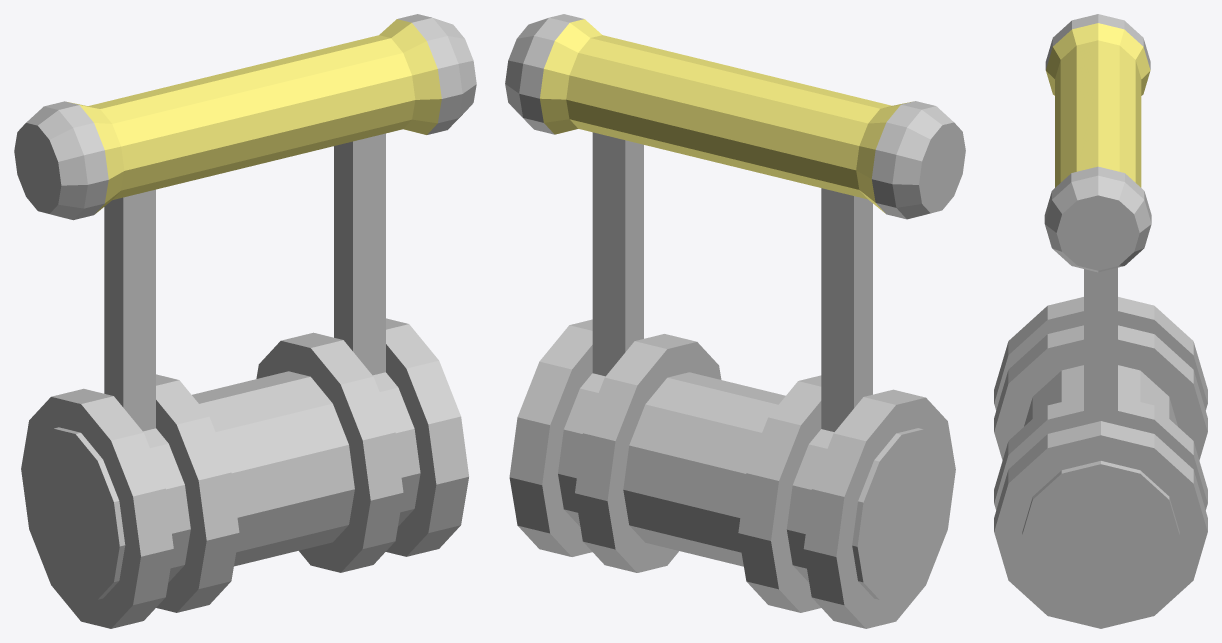
File: mechanical_lever_large.fbx
3 views of the same model, side by side, from view 1: azimuth 30°, elevation 25°; view 2: azimuth 150°, elevation 25°; view 3: azimuth 270°, elevation 25° (orthographic). The views are drawn at different scales.
Parts seen in each view (by area): view 1: mesh2084240366; view 2: mesh2084240366; view 3: mesh2084240366.
Boxes of the visible parts, x1,y1,x2,y2 form: mesh2084240366: [14, 14, 476, 628]; mesh2084240366: [505, 14, 965, 628]; mesh2084240366: [994, 14, 1207, 628].
Size of the model in its own units: 50 by 59.74 by 25.
